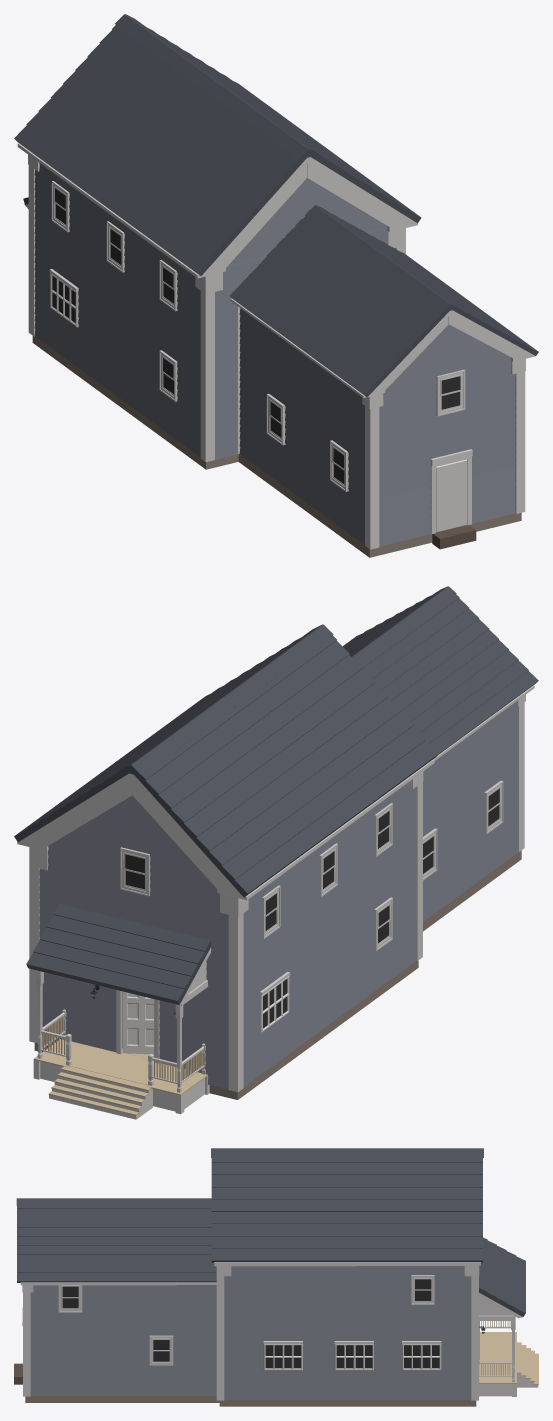
The model's file is house1.fbx.
The picture shows the model from 3 angles, top to bottom: view 1: azimuth 30°, elevation 25°; view 2: azimuth 150°, elevation 25°; view 3: azimuth 270°, elevation 25°; orthographic projection. The views are drawn at different scales.
Visible parts, largest first — view 1: pCube1044 (×2), pCube1058, pCube1059, pCube1077, pCube1074, pCube1075, pCube1046 (×2), pCube1047 (×2), roofframe_main (×2), pCube1078, pCube1076, pCube1069 (+12 smaller); view 2: pCube1044 (×2), pCube1058, pCube1059, porchroof, pCube1062, pCube1063, pCube1074, porch, pCube1047 (×2), pCube1068, pCube1075, pCube1046 (×2) (+11 smaller); view 3: pCube1046 (×2), pCube1060, pCube1061, pCube1072, pCube1073, pCube1047 (×2), porchroof, porch, pCube685 (×3), roofframe_main (×2), pCube684 (×3), pCube997 (+7 smaller).
Boxes of the visible parts, <box> form: pCube1044 (×2): <box>14,25,452,397</box>; pCube1058: <box>34,242,200,456</box>; pCube1059: <box>34,163,200,362</box>; pCube1077: <box>379,372,515,498</box>; pCube1074: <box>239,308,364,486</box>; pCube1075: <box>239,396,364,544</box>; pCube1046 (×2): <box>148,28,538,357</box>; pCube1047 (×2): <box>115,14,458,312</box>; roofframe_main (×2): <box>17,143,533,397</box>; pCube1078: <box>379,465,515,546</box>; pCube1076: <box>383,324,511,402</box>; pCube1069: <box>228,178,386,265</box>; pCube1044 (×2): <box>131,594,538,897</box>; pCube1058: <box>243,862,416,1086</box>; pCube1059: <box>243,780,416,987</box>; porchroof: <box>26,904,211,1005</box>; pCube1062: <box>39,848,228,990</box>; pCube1063: <box>42,972,228,1089</box>; pCube1074: <box>423,702,518,850</box>; porch: <box>33,970,209,1114</box>; pCube1047 (×2): <box>120,586,456,775</box>; pCube1068: <box>48,795,216,888</box>; pCube1075: <box>423,792,518,921</box>; pCube1046 (×2): <box>14,592,436,843</box>; pCube1046 (×2): <box>17,1157,482,1282</box>; pCube1060: <box>224,1266,471,1329</box>; pCube1061: <box>224,1330,471,1399</box>; pCube1072: <box>30,1285,216,1352</box>; pCube1073: <box>30,1352,216,1395</box>; pCube1047 (×2): <box>16,1148,483,1205</box>; porchroof: <box>479,1237,525,1318</box>; porch: <box>479,1321,516,1396</box>; pCube685 (×3): <box>265,1345,439,1368</box>; roofframe_main (×2): <box>20,1262,480,1285</box>; pCube684 (×3): <box>263,1341,441,1370</box>; pCube997: <box>219,1400,476,1406</box>.
Size of the model in its own units: 9.48 by 12.4 by 25.96.
